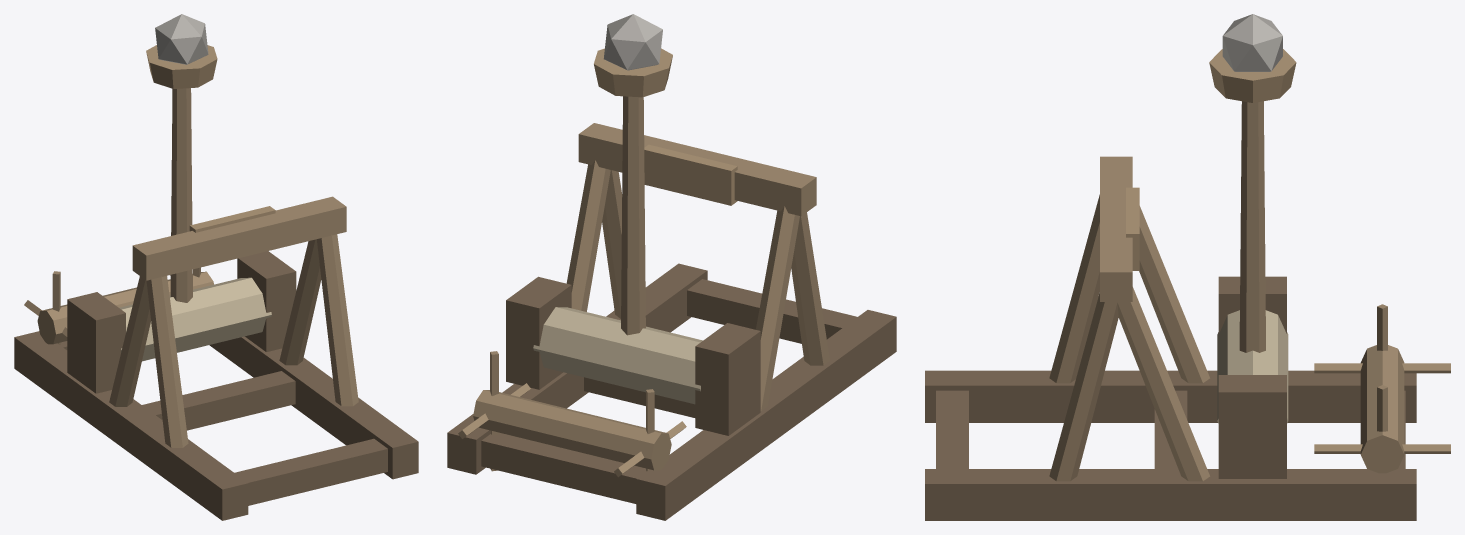
The model's file is mangonel.glb.
3 renders of one model, left to right at view 1: azimuth 30°, elevation 25°; view 2: azimuth 150°, elevation 25°; view 3: azimuth 270°, elevation 25°, orthographic. The views are drawn at different scales.
Parts seen in each view (by area): view 1: Frame, ArmBeam, Winch, Stone; view 2: Frame, Winch, ArmBeam, Stone; view 3: Frame, ArmBeam, Winch, Stone.
Boxes of the visible parts, box(x1,y1,x2,y2) form: Frame: box(14, 196, 418, 520); ArmBeam: box(146, 45, 217, 302); Winch: box(24, 267, 213, 344); Stone: box(155, 14, 208, 64); Frame: box(447, 123, 896, 520); Winch: box(458, 351, 686, 477); ArmBeam: box(594, 48, 672, 335); Stone: box(603, 14, 662, 70); Frame: box(925, 156, 1416, 520); ArmBeam: box(1209, 49, 1296, 352); Winch: box(1314, 304, 1450, 473); Stone: box(1222, 14, 1282, 71).
Bounding box in the file's own units: 2 × 3.69 × 3.85.
